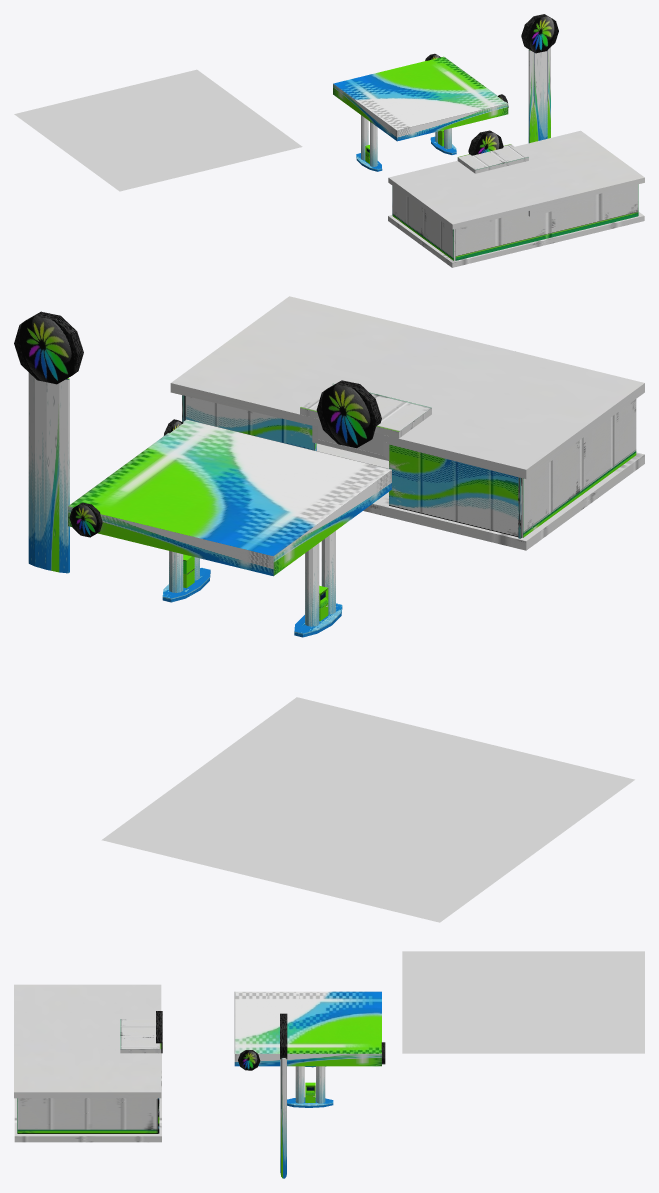
The model's file is lvl4.glb.
3 views of the same model, one above another, from view 1: azimuth 30°, elevation 25°; view 2: azimuth 150°, elevation 25°; view 3: azimuth 270°, elevation 25° (orthographic). The views are drawn at different scales.
Visible parts, largest first — view 1: Plane, Cube.001, Cube, Cube.003, Cylinder.004, Cube.004, Cube.006, Cube.009, Cylinder.005, Cylinder.010, Cylinder.009; view 2: Plane, Cube.001, Cube, Cylinder.004, Cube.008, Cube.004, Cube.006, Cylinder.005, Cylinder.009, Cube.007, Cylinder.010, Cube.009 (+1 smaller); view 3: Plane, Cube.001, Cube, Cube.005, Cube.006, Cube.009, Cylinder.004, Cylinder.007, Cylinder.002, Cylinder.011, Cylinder.005.
Part boxes in pixels (x1,y1,x2,y2): Plane: (14,69,302,191); Cube.001: (388,130,644,229); Cube: (333,56,508,141); Cube.003: (455,184,638,260); Cylinder.004: (528,47,550,143); Cube.004: (392,186,455,260); Cube.006: (388,212,644,267); Cube.009: (457,144,528,173); Cylinder.005: (521,14,558,53); Cylinder.010: (356,115,382,171); Cylinder.009: (468,130,503,155); Plane: (101,697,634,922); Cube.001: (170,296,644,479); Cube: (68,419,391,576); Cylinder.004: (28,372,69,573); Cube.008: (389,444,518,536); Cube.004: (522,399,636,537); Cube.006: (316,443,644,550); Cylinder.005: (14,311,83,384); Cylinder.009: (316,380,381,448); Cube.007: (184,395,316,450); Cylinder.010: (294,531,342,637); Cube.009: (300,383,431,438); Plane: (402,951,644,1053); Cube.001: (14,984,161,1098); Cube: (234,991,381,1066); Cube.005: (17,1098,158,1133); Cube.006: (14,1053,161,1142); Cube.009: (120,1019,161,1053); Cylinder.004: (280,1058,286,1178); Cylinder.007: (238,1050,260,1070); Cylinder.002: (316,1066,325,1103); Cylinder.011: (295,1066,304,1103); Cylinder.005: (280,1013,287,1059).
Size of the model in its own units: 51.91 by 17.51 by 63.98.
Materials: 2 (2 with a texture image).
